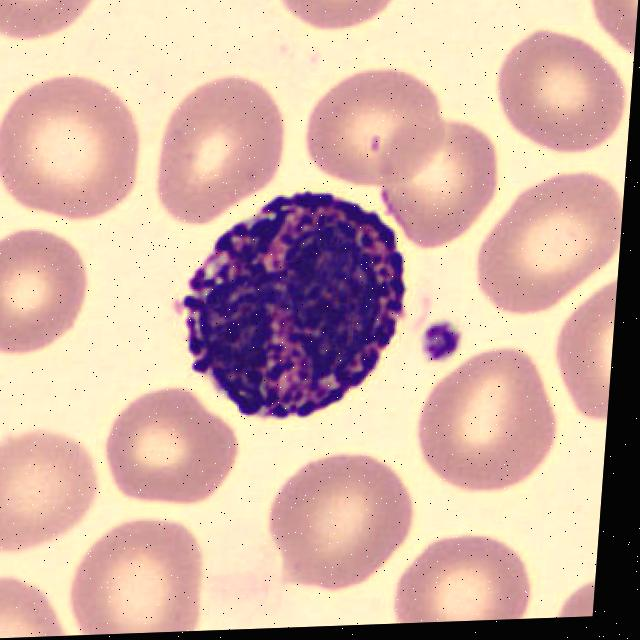basophil: (178, 149, 419, 415)
platelets: (417, 318, 470, 366)
rbc: (255, 415, 427, 594), (406, 347, 573, 503), (483, 0, 637, 161), (150, 75, 290, 225), (0, 77, 135, 224), (366, 126, 509, 262), (474, 173, 619, 307), (301, 71, 457, 189), (97, 392, 244, 517), (66, 522, 223, 636), (0, 223, 105, 361), (0, 429, 102, 558), (391, 541, 537, 624), (548, 282, 617, 444), (262, 0, 413, 42), (0, 0, 104, 55), (0, 572, 75, 640), (570, 0, 640, 63), (554, 577, 595, 618)
